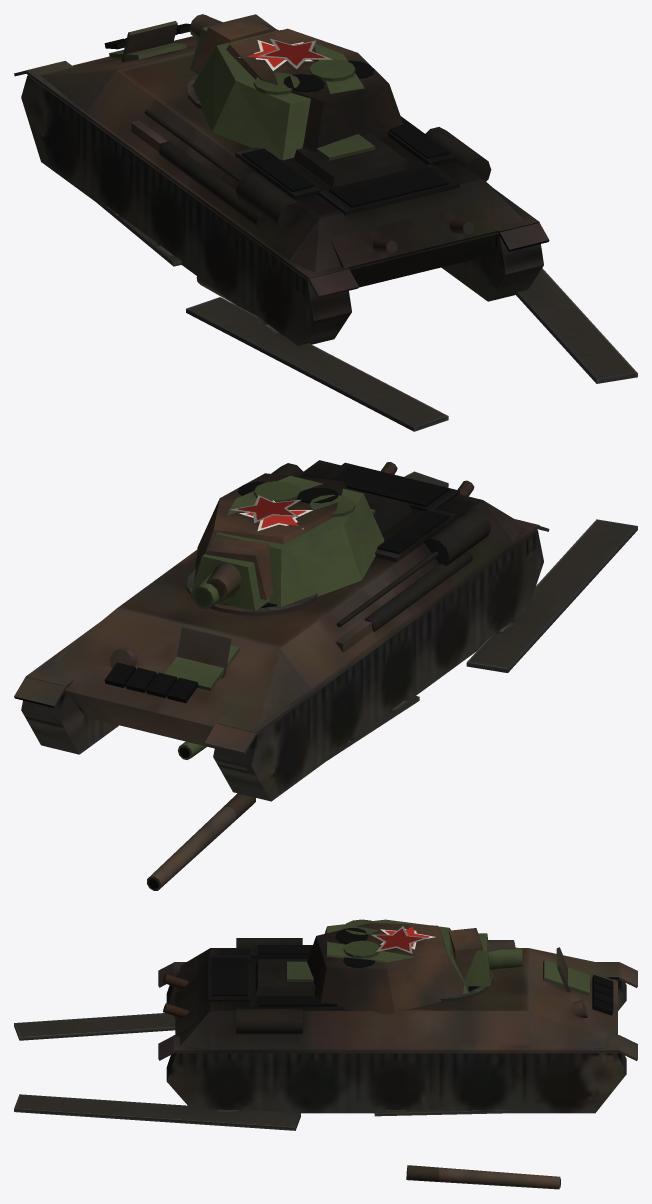
3 views of the same model, one above another, from view 1: azimuth 30°, elevation 25°; view 2: azimuth 150°, elevation 25°; view 3: azimuth 270°, elevation 25° (orthographic). The views are drawn at different scales.
Visible parts, largest first — view 1: hull_blown, turret_ko, turret_ok, hull_trackL, hull_trackR, hull_ok; view 2: hull_blown, turret_ok, hull_trackL, turret_ko, gun_blown, hull_ok; view 3: hull_blown, turret_ko, hull_trackR, turret_ok, hull_trackL, gun_blown, hull_ok.
Boxes of the visible parts, left/top/right/bottom form: hull_blown: left=14, top=14, right=549, bottom=345; turret_ko: left=189, top=14, right=403, bottom=151; turret_ok: left=190, top=15, right=364, bottom=160; hull_trackL: left=95, top=198, right=448, bottom=431; hull_trackR: left=516, top=268, right=637, bottom=383; hull_ok: left=109, top=43, right=375, bottom=160; hull_blown: left=14, top=460, right=549, bottom=801; turret_ok: left=190, top=475, right=384, bottom=611; hull_trackL: left=326, top=519, right=637, bottom=761; turret_ko: left=194, top=473, right=347, bottom=601; gun_blown: left=147, top=793, right=255, bottom=890; hull_ok: left=164, top=509, right=375, bottom=690; hull_blown: left=158, top=938, right=637, bottom=1113; turret_ko: left=307, top=922, right=515, bottom=1013; hull_trackR: left=14, top=1094, right=509, bottom=1130; turret_ok: left=324, top=919, right=522, bottom=993; hull_trackL: left=14, top=1013, right=175, bottom=1040; gun_blown: left=406, top=1165, right=560, bottom=1189; hull_ok: left=287, top=959, right=589, bottom=995.
Bounding box in the file's own units: 4.19 × 3.89 × 8.95.
Materials: 21 (21 with a texture image).
